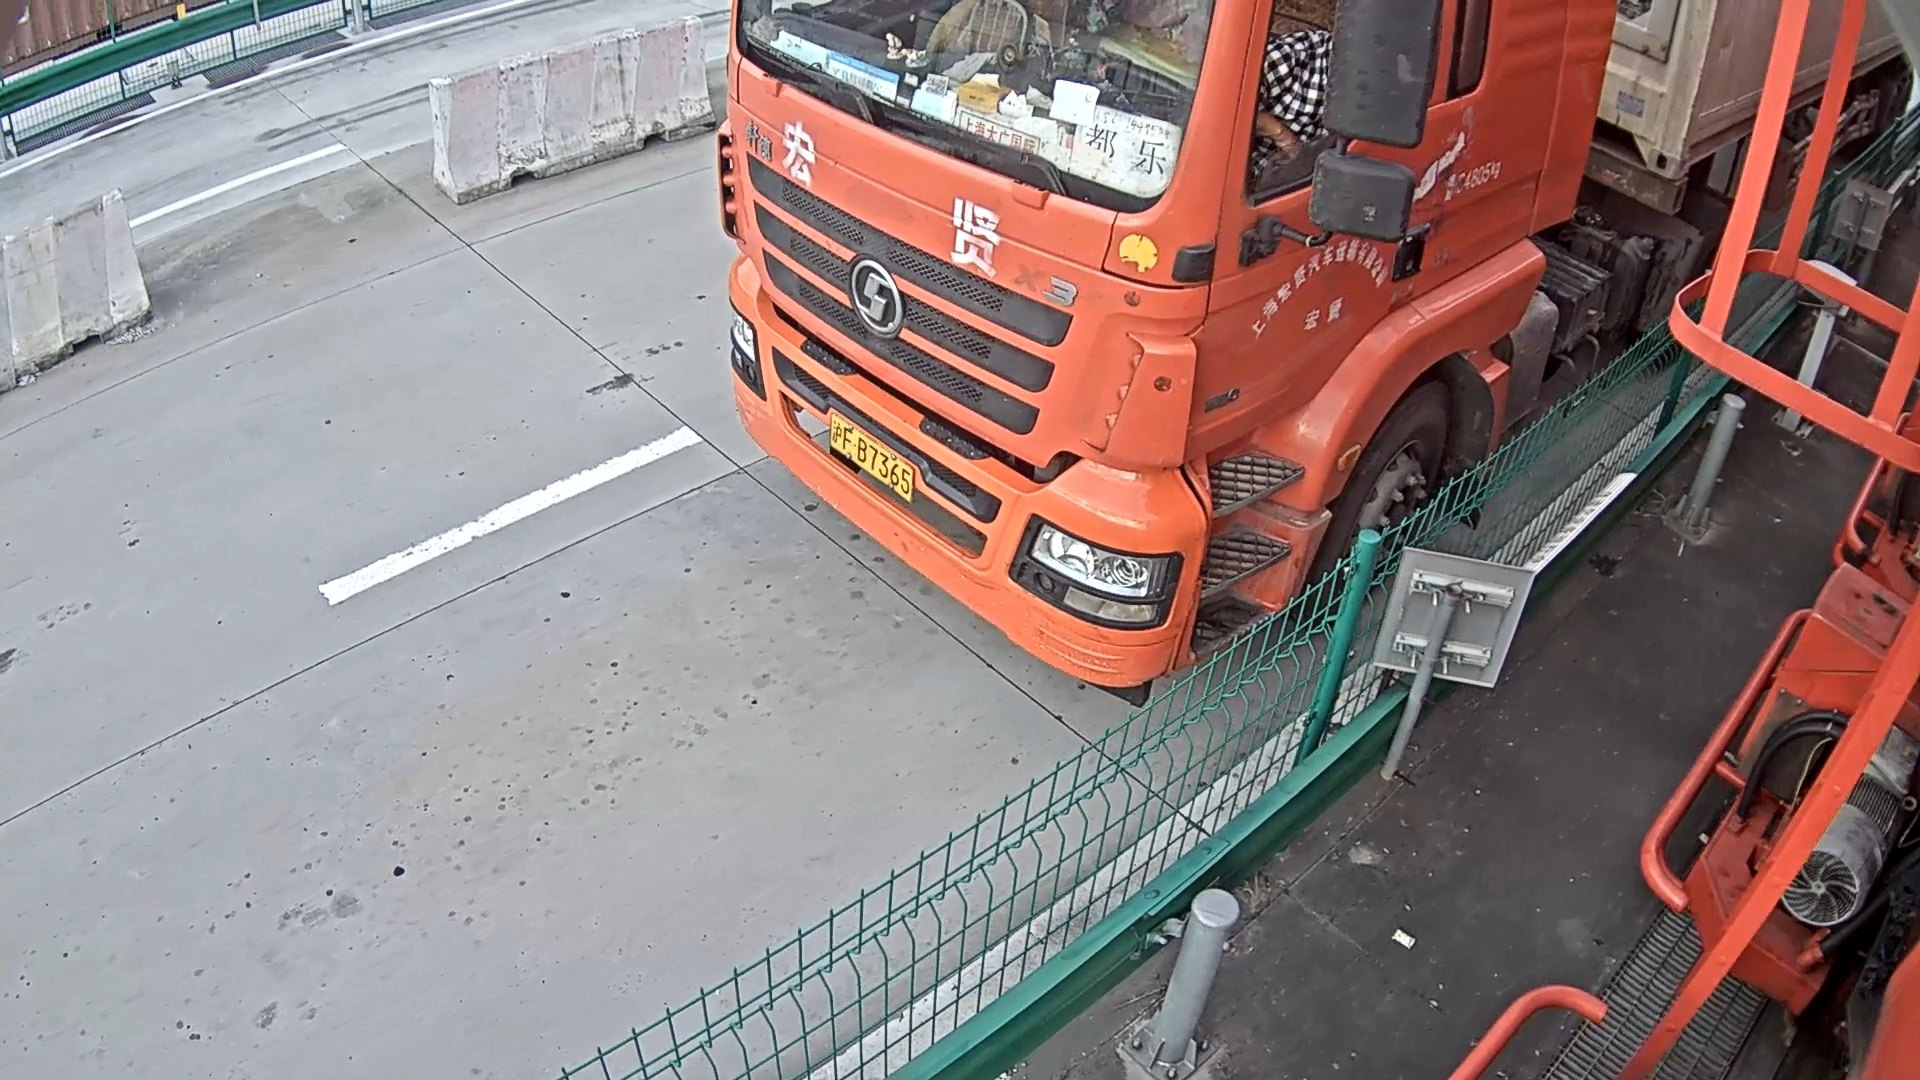head: (719, 1, 1621, 700)
plate: (831, 412, 908, 500)
